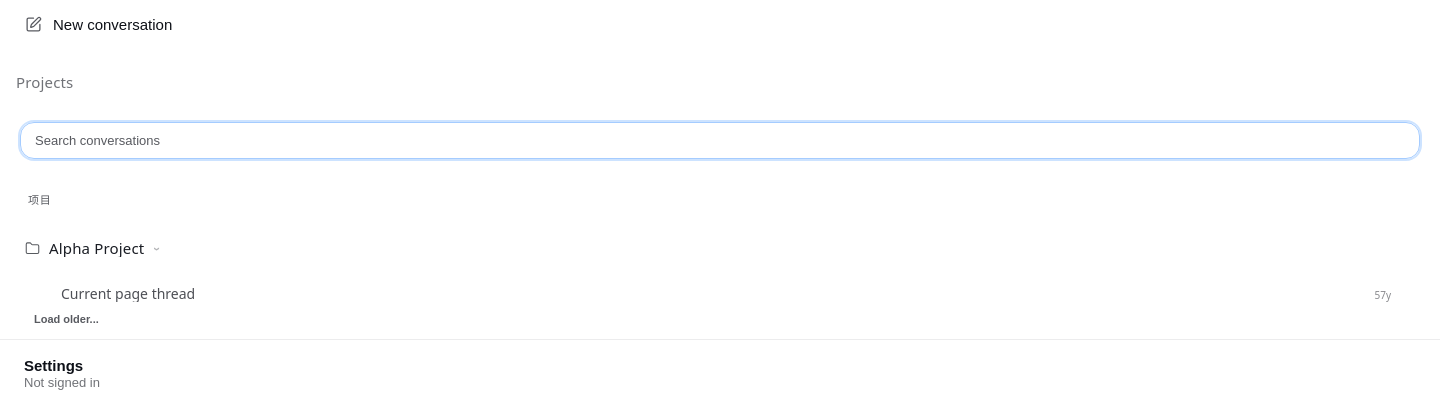
Sidebar › keeps a project visible during search when only older pages may contain matches
Step 1. Type "historical" into the field with placeholder "Search conversations" → [720, 140], box top-left (20, 122), bottom-right (1420, 159)
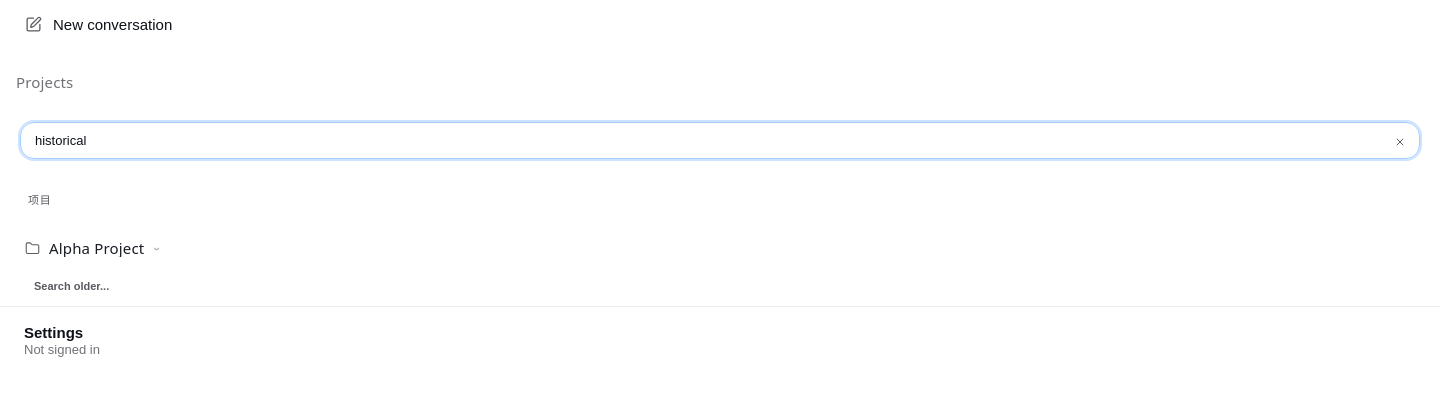
Expected: the text "Alpha Project" is shown, top-left (49, 240), bottom-right (144, 257)
Result: the button "Search older..." is shown at top-left (16, 278), bottom-right (1434, 294)
Result: the button "Current page thread" is gone
